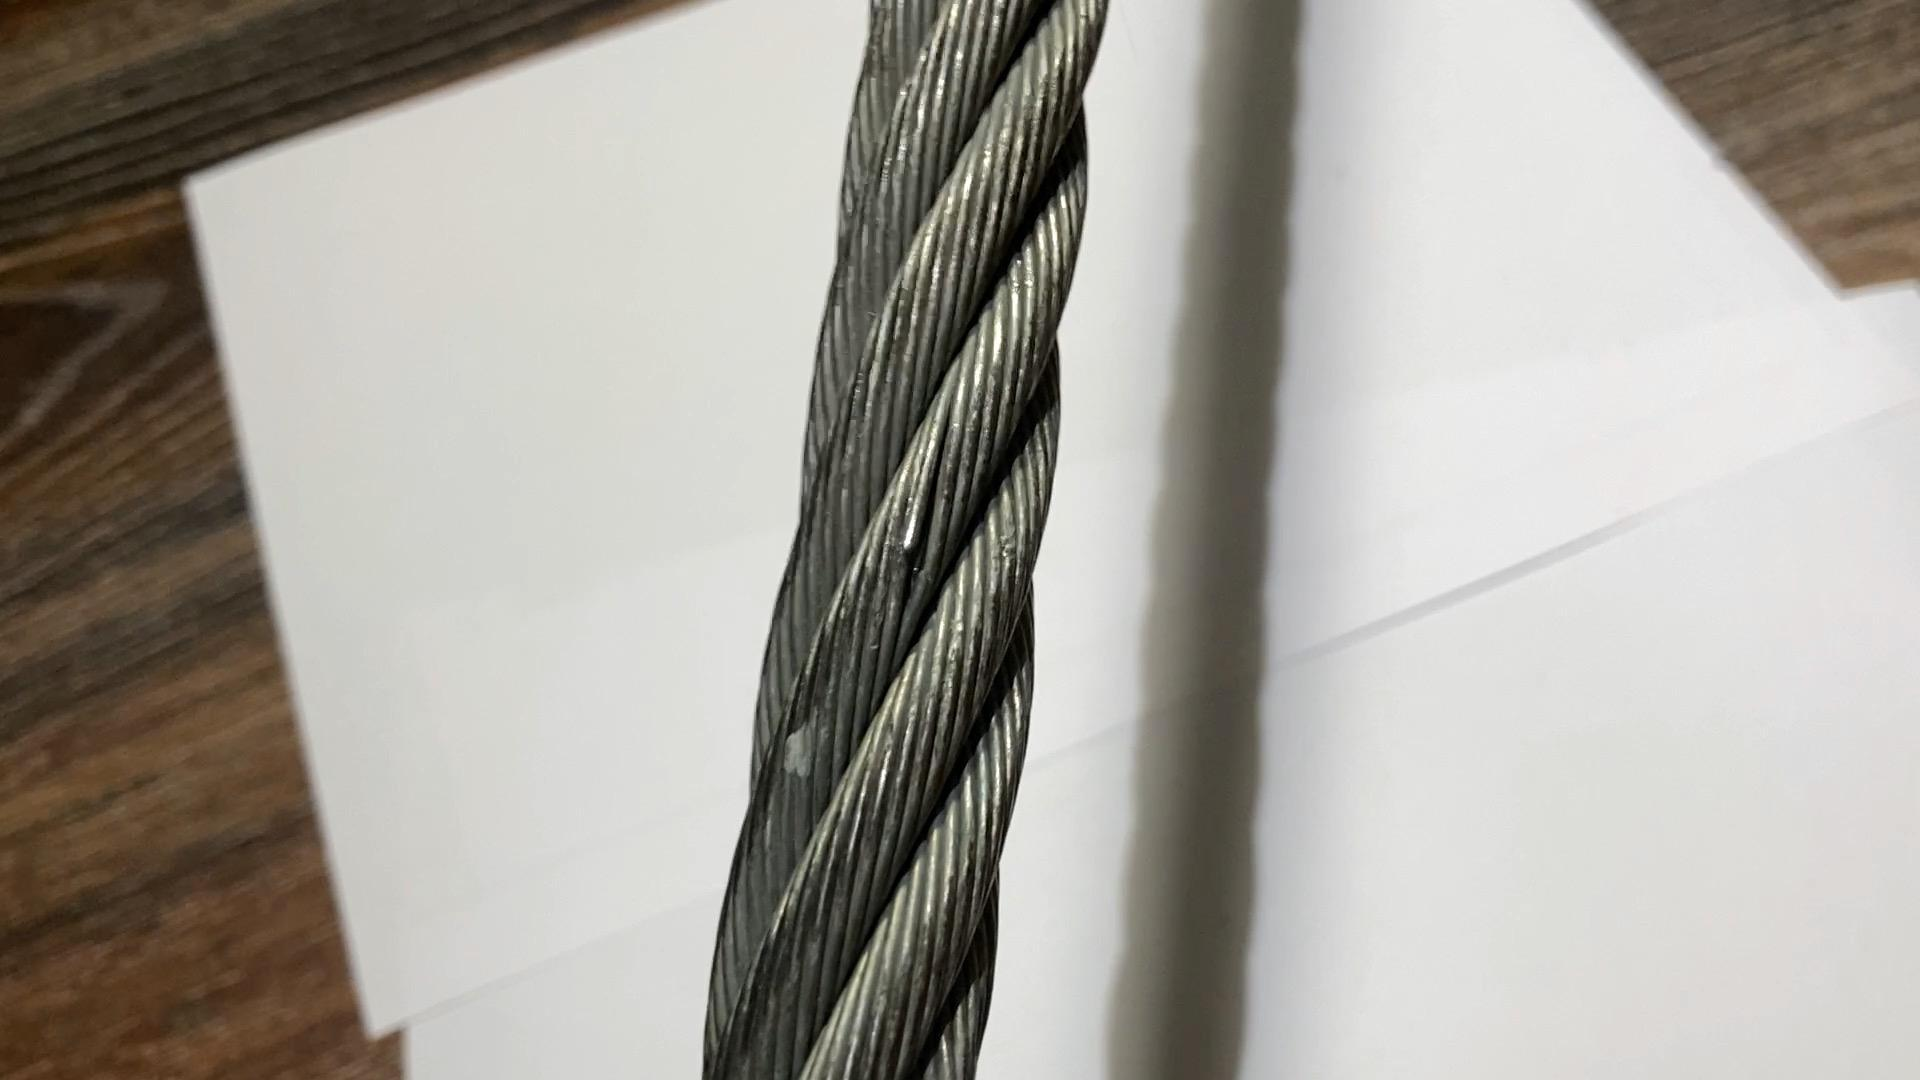break: (878, 506, 947, 593)
